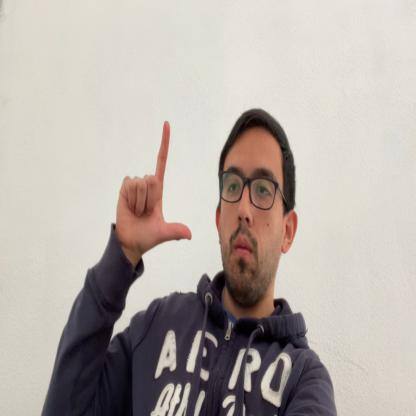L: (116, 120, 192, 252)
